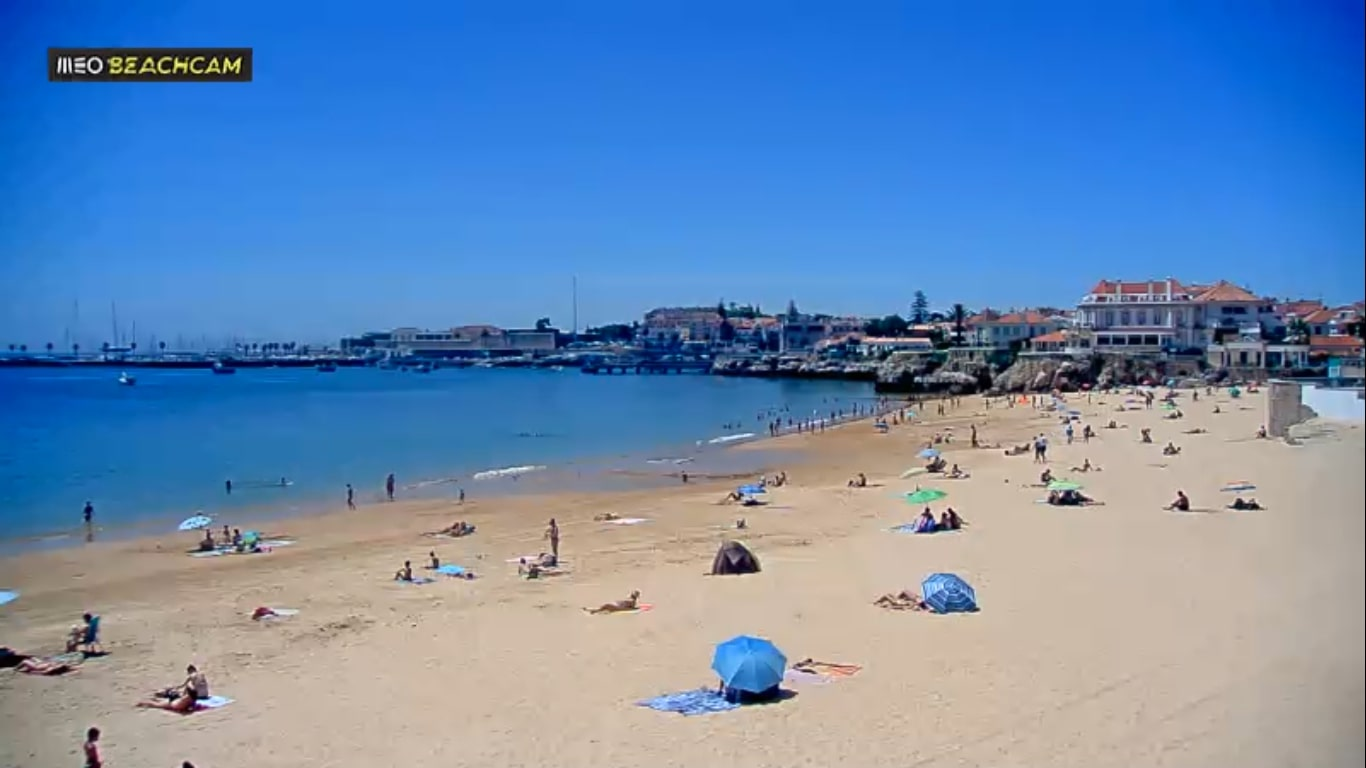person: (713, 633, 789, 697), (710, 538, 759, 576), (137, 690, 200, 713), (75, 724, 108, 767), (73, 610, 106, 653), (585, 589, 642, 613), (177, 515, 214, 547), (873, 593, 923, 611), (172, 664, 208, 687), (251, 603, 299, 619), (1163, 487, 1191, 512), (1048, 488, 1087, 504), (914, 504, 934, 533), (546, 519, 559, 562), (1225, 497, 1267, 510), (760, 470, 792, 487), (445, 519, 475, 537), (1032, 431, 1049, 462), (845, 471, 868, 490), (1068, 456, 1095, 472), (80, 500, 94, 529), (941, 506, 957, 531), (395, 559, 413, 581), (344, 481, 356, 514), (924, 454, 947, 471), (1004, 441, 1029, 456), (723, 489, 746, 505), (385, 474, 396, 503), (425, 550, 440, 570), (1162, 441, 1182, 455), (1081, 423, 1093, 445), (968, 424, 978, 448), (1040, 467, 1056, 482), (1141, 426, 1154, 443), (949, 463, 963, 478), (1065, 425, 1074, 446), (221, 522, 231, 539), (1256, 424, 1267, 439), (1183, 427, 1206, 433), (233, 527, 242, 542), (457, 486, 464, 501), (1059, 414, 1069, 424), (1228, 388, 1238, 397), (933, 435, 942, 444), (1167, 396, 1175, 406), (899, 407, 904, 421), (769, 421, 774, 435), (1031, 394, 1036, 407), (1108, 420, 1116, 428), (1212, 405, 1220, 413), (944, 433, 951, 442), (1176, 408, 1183, 416), (949, 397, 954, 408), (819, 419, 824, 430), (853, 401, 857, 414), (859, 403, 863, 416), (1192, 390, 1197, 400), (1136, 387, 1142, 395), (830, 410, 835, 419), (775, 415, 780, 424), (810, 421, 814, 432), (1168, 411, 1175, 417), (1118, 403, 1124, 410), (918, 400, 922, 410), (797, 421, 801, 431), (788, 416, 792, 426), (1246, 384, 1251, 392), (937, 402, 940, 415), (941, 402, 944, 415), (1145, 395, 1148, 407), (881, 416, 885, 425), (1087, 392, 1090, 404), (1205, 386, 1210, 393), (986, 397, 989, 408), (1149, 395, 1152, 406), (1040, 395, 1043, 406), (838, 408, 842, 416), (956, 397, 959, 407), (876, 415, 879, 425), (870, 405, 873, 414), (884, 395, 887, 404), (1013, 392, 1016, 401), (881, 399, 884, 406), (1023, 391, 1025, 398)
